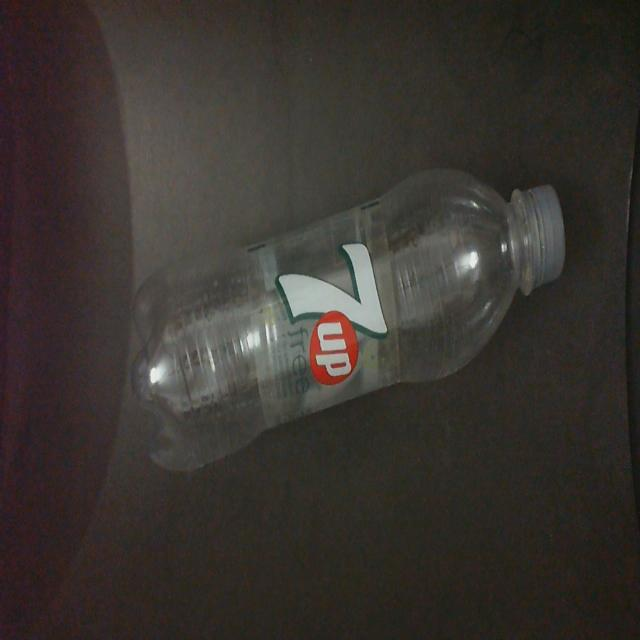non-defect: (128, 164, 568, 478)
